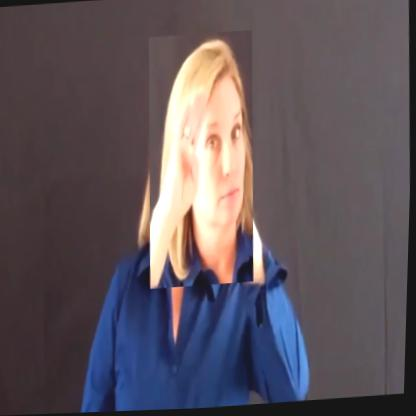Hello: (144, 32, 261, 291)
